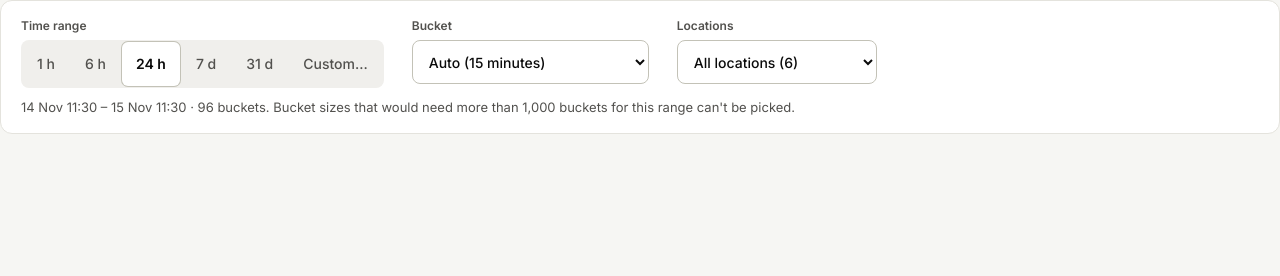
Scenario: FilterBar › custom range › rejects an end before the start at its field
Click the button "Custom…" at (336, 64), box [289,42,382,86]
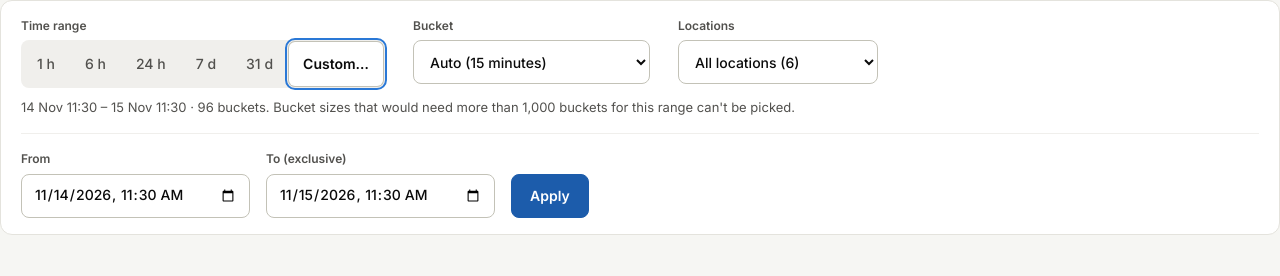
Replace the text in the field labelled "From" with "2026-11-12T09:00" at (136, 196), box [21,174,250,218]
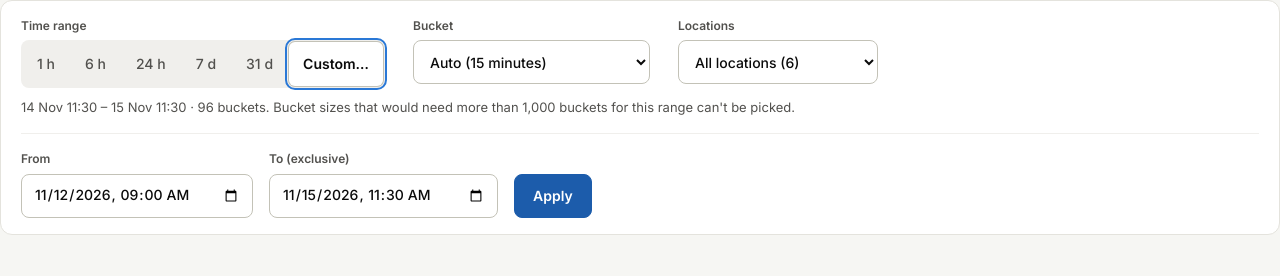
Replace the text in the field labelled "To (exclusive)" with "2026-11-10T09:00" at (384, 196), box [269,174,498,218]
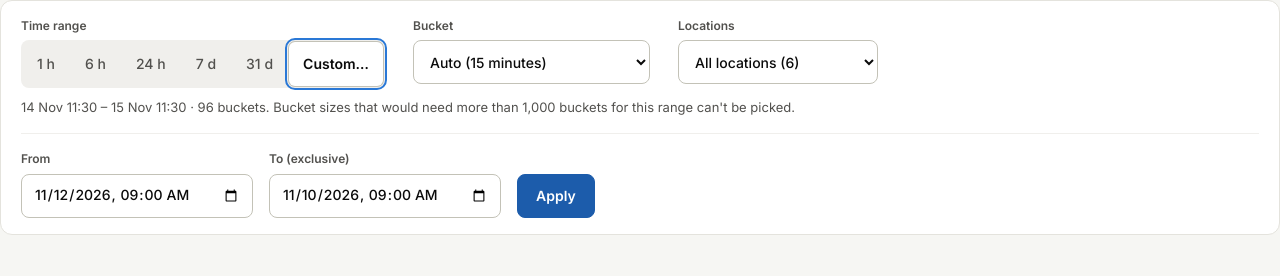
Click the button "Apply" at (556, 196), box [517,174,595,218]
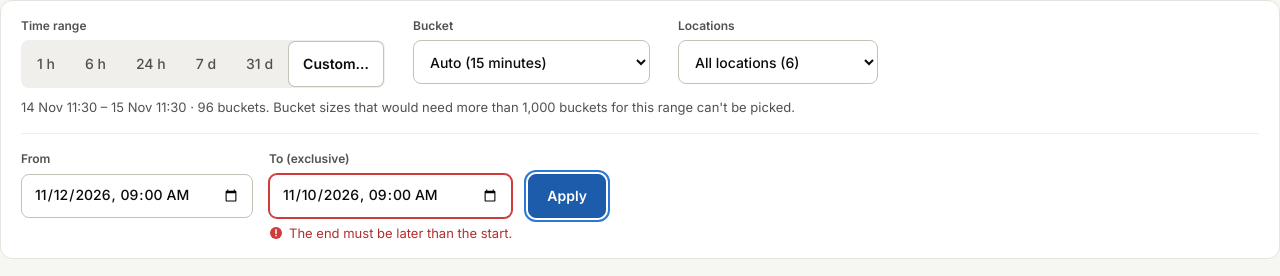
Check: the field labelled "To (exclusive)" is marked as invalid, box [269,174,512,218]
